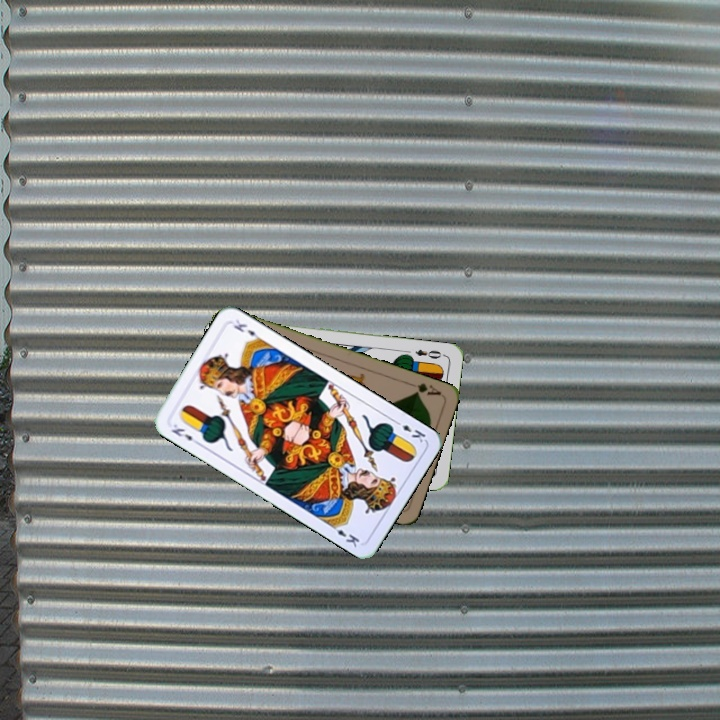EK: (390, 416, 428, 445), (167, 420, 203, 448)
EO: (411, 345, 447, 361)
GA: (404, 378, 444, 398)
